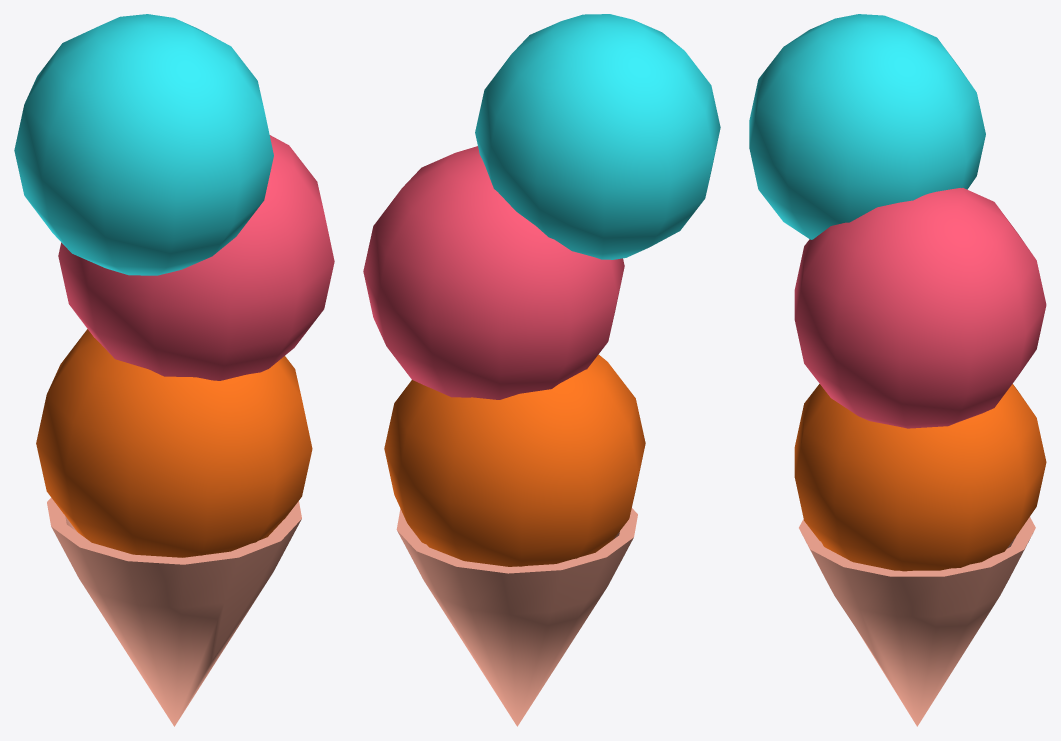
The model's file is 004_Candy_Cone_03.fbx.
3 renders of one model, left to right at view 1: azimuth 30°, elevation 25°; view 2: azimuth 150°, elevation 25°; view 3: azimuth 270°, elevation 25°, orthographic. The views are drawn at different scales.
Parts seen in each view (by area): view 1: Sphere.064, Sphere.059, Sphere.060, Cone.007; view 2: Sphere.064, Sphere.060, Sphere.059, Cone.007; view 3: Sphere.060, Sphere.064, Sphere.059, Cone.007.
Part boxes in pixels (x1=…): Sphere.064: x1=14, y1=14, x2=273, y2=275; Sphere.059: x1=36, y1=329, x2=312, y2=557; Sphere.060: x1=58, y1=135, x2=334, y2=380; Cone.007: x1=47, y1=497, x2=301, y2=726; Sphere.064: x1=475, y1=14, x2=720, y2=259; Sphere.060: x1=363, y1=146, x2=624, y2=399; Sphere.059: x1=384, y1=354, x2=645, y2=566; Cone.007: x1=396, y1=508, x2=637, y2=726; Sphere.060: x1=794, y1=188, x2=1046, y2=428; Sphere.064: x1=749, y1=14, x2=985, y2=239; Sphere.059: x1=794, y1=384, x2=1046, y2=571; Cone.007: x1=799, y1=517, x2=1035, y2=726.
Bounding box in the file's own units: 50.01 × 112 × 44.66.
